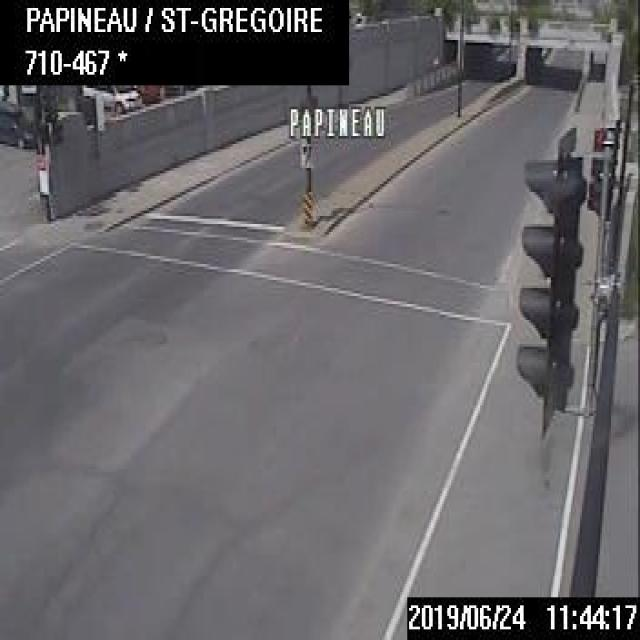vehicle: (79, 81, 142, 115), (0, 102, 36, 148)
